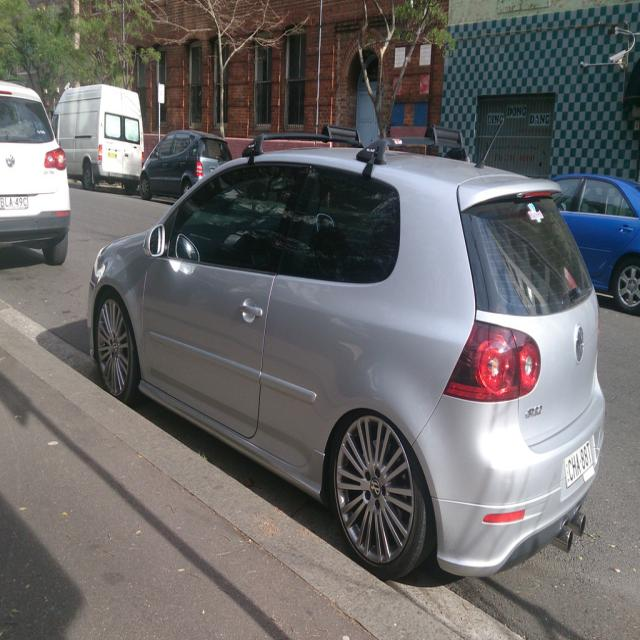car: (81, 148, 615, 590)
